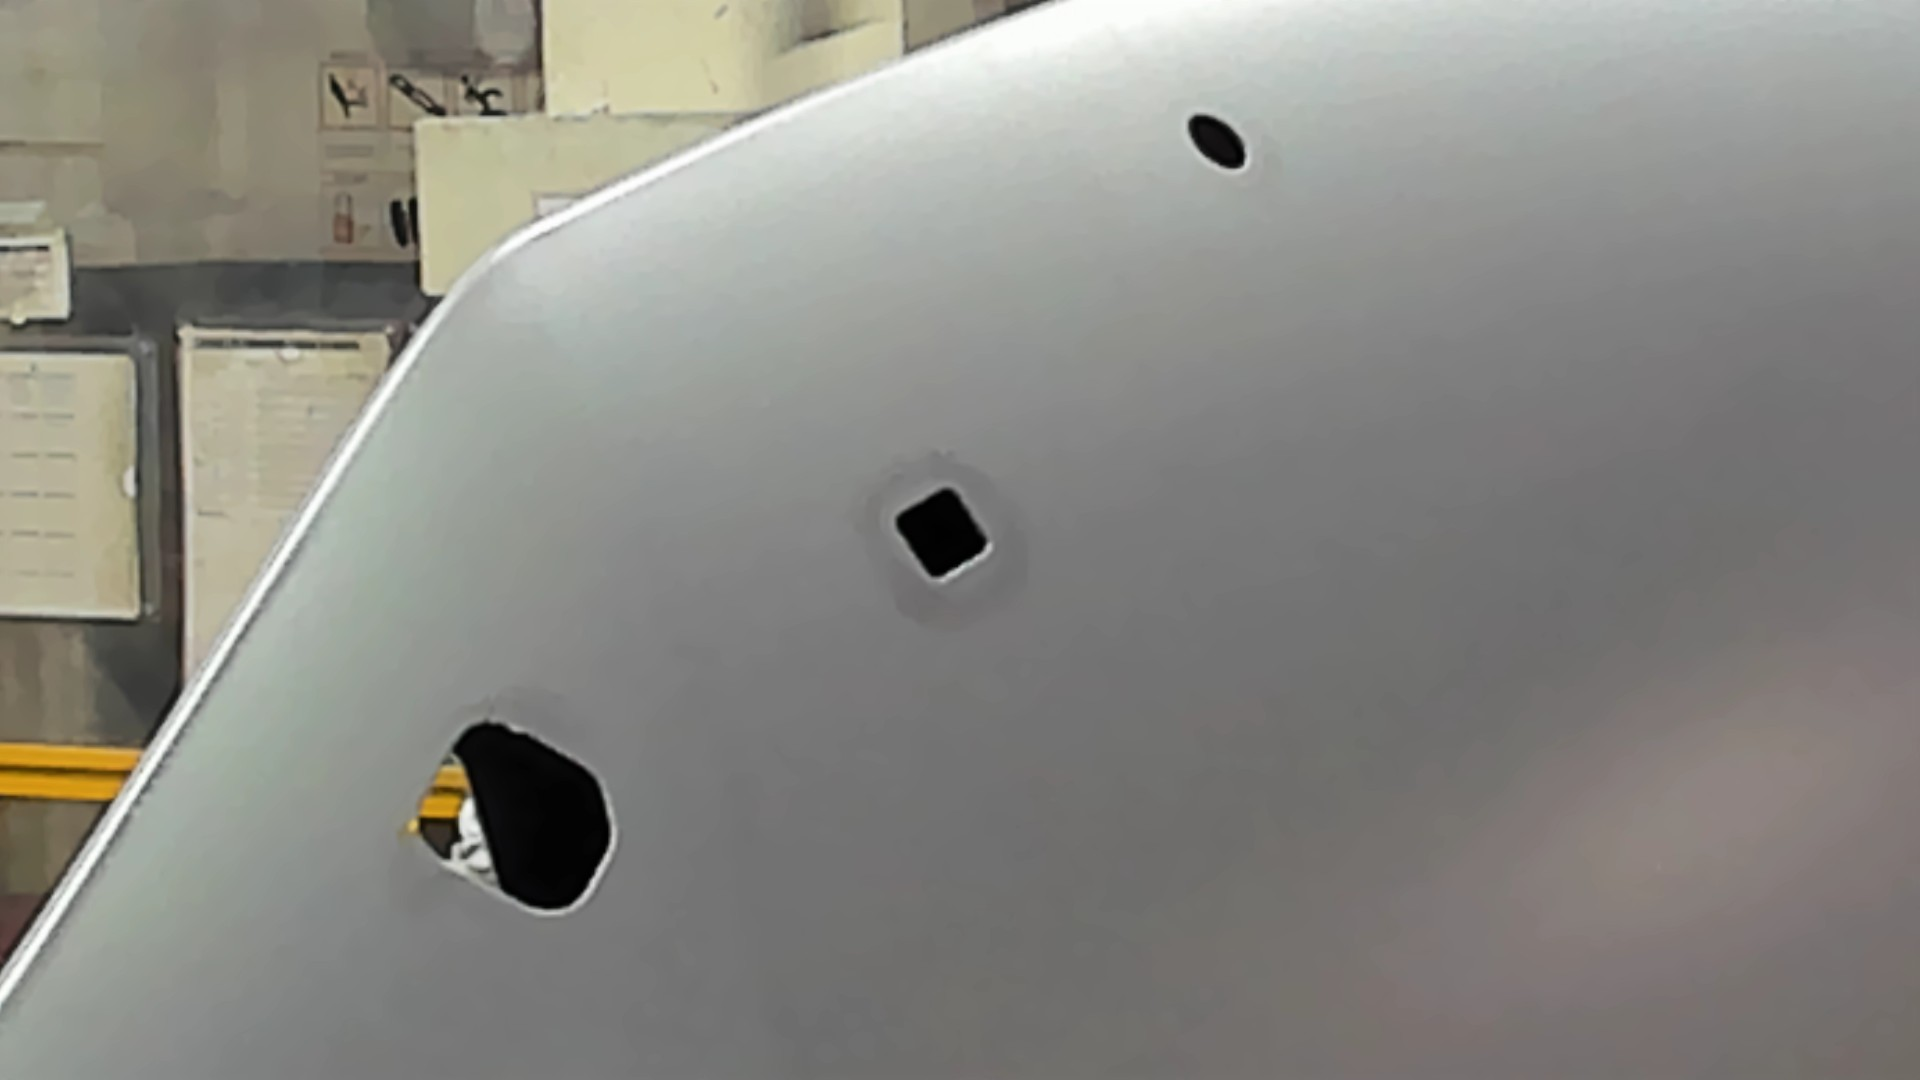chico: (1184, 111, 1251, 174)
grande: (409, 713, 630, 918)
mediano: (884, 479, 996, 592)
